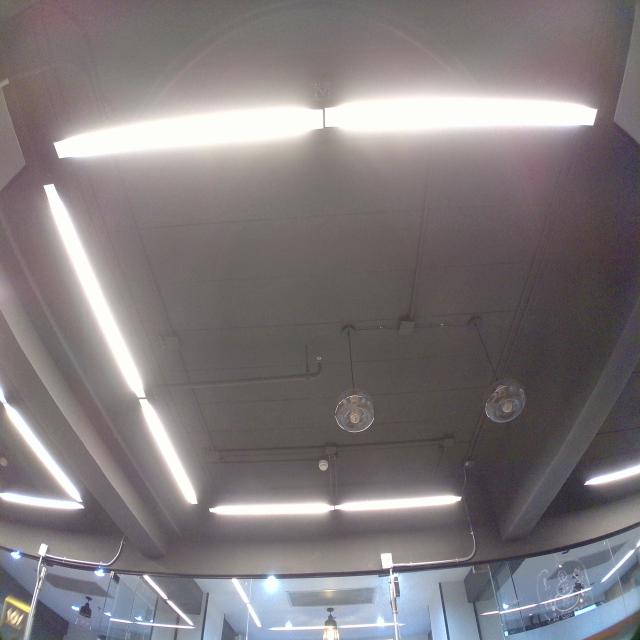lamp2_on: (27, 178, 208, 519), (47, 84, 602, 164), (203, 487, 472, 518)
